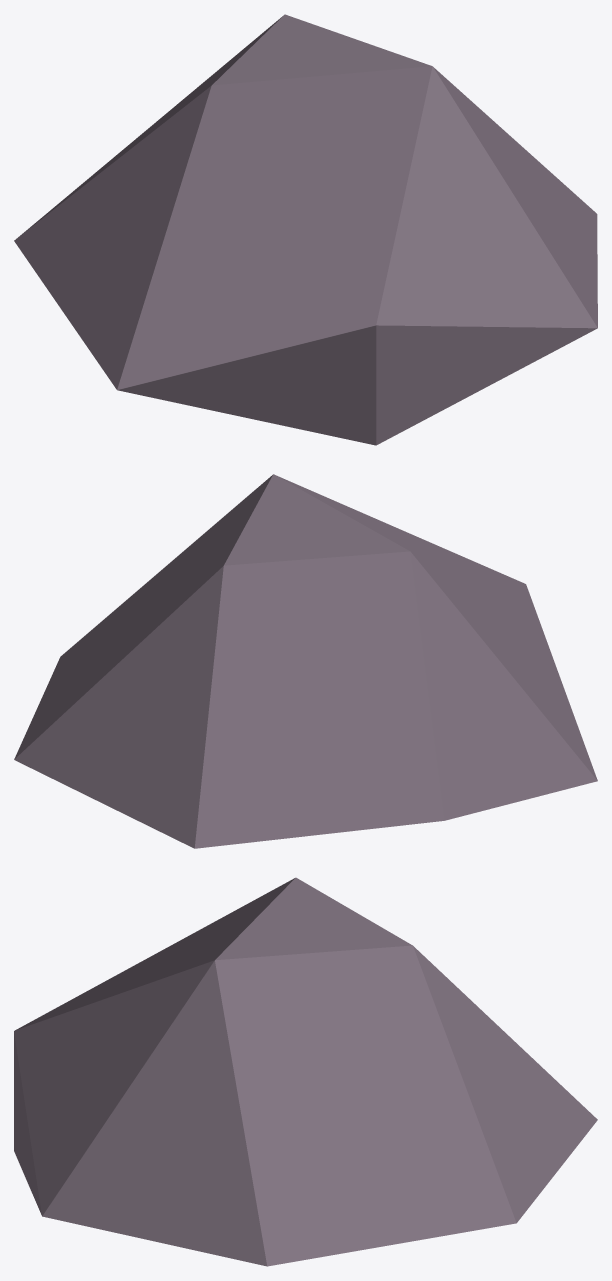
The model's file is Small_stone_v12.fbx.
3 renders of one model, top to bottom at view 1: azimuth 30°, elevation 25°; view 2: azimuth 150°, elevation 25°; view 3: azimuth 270°, elevation 25°, orthographic.
Visible parts, largest first — view 1: Small_stone_v12; view 2: Small_stone_v12; view 3: Small_stone_v12.
Part boxes in pixels (x1=…): Small_stone_v12: x1=14, y1=14, x2=597, y2=445; Small_stone_v12: x1=14, y1=474, x2=597, y2=848; Small_stone_v12: x1=14, y1=877, x2=597, y2=1266.
Size of the model in its own units: 12.59 by 6.26 by 12.4.
1 material, 1 textured.
